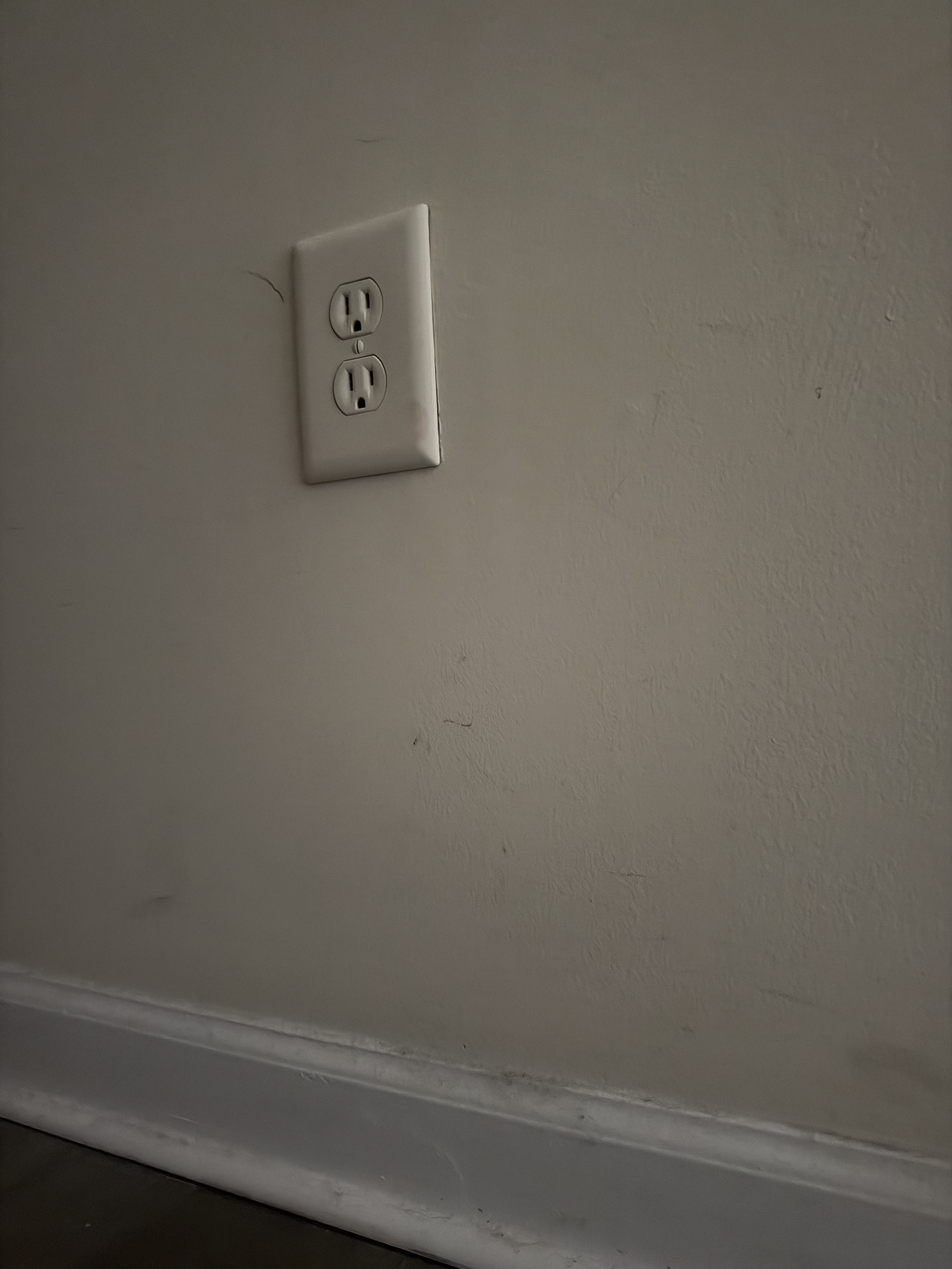outlet: (295, 238, 434, 470)
